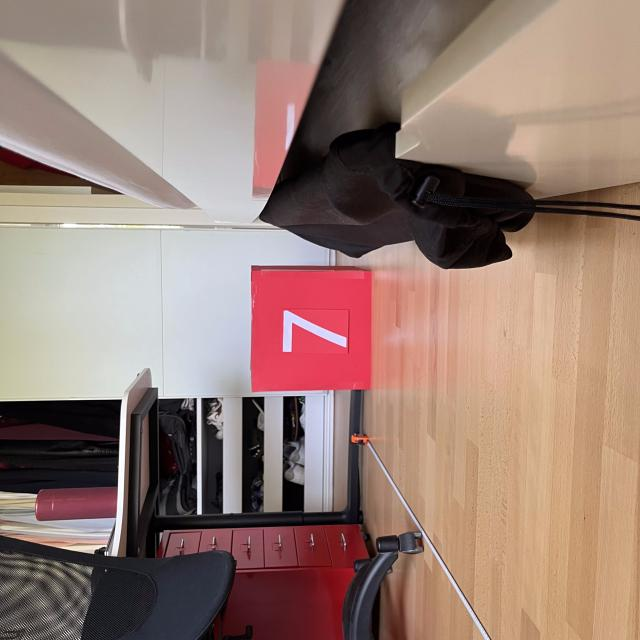box: (245, 261, 376, 393)
